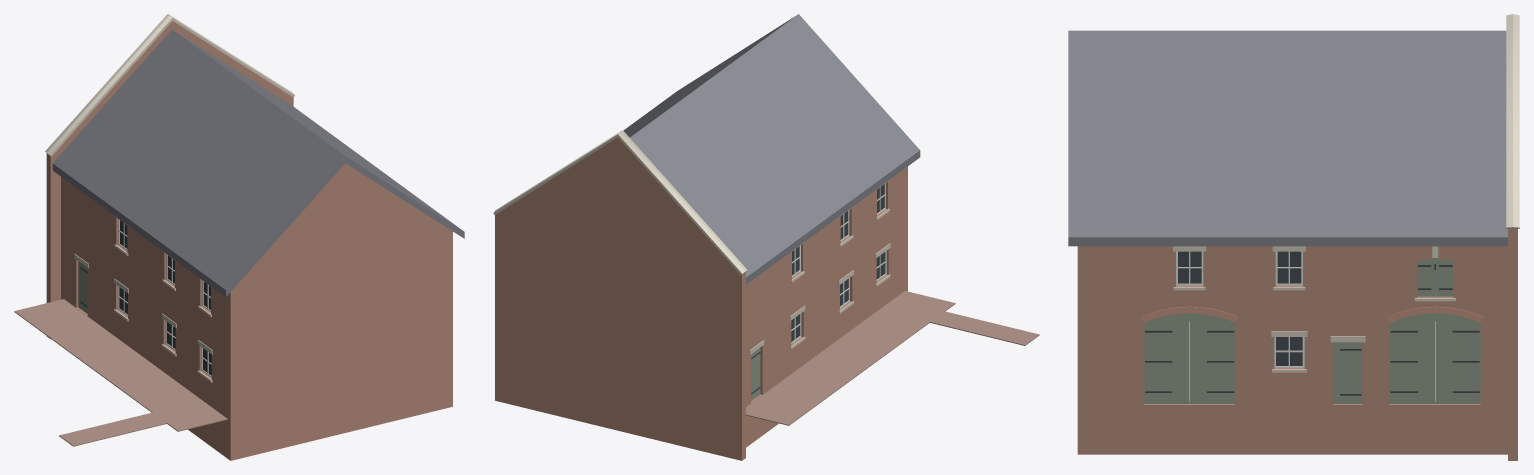
The model's file is house_2027_prairie_coach_house__as_standing_1904.glb.
3 renders of one model, left to right at view 1: azimuth 30°, elevation 25°; view 2: azimuth 150°, elevation 25°; view 3: azimuth 270°, elevation 25°, orthographic. The views are drawn at different scales.
Visible parts, largest first — view 1: house_2027_prairie_coach_house__as_standing_1904; view 2: house_2027_prairie_coach_house__as_standing_1904; view 3: house_2027_prairie_coach_house__as_standing_1904.
Boxes of the visible parts, x1,y1,x2,y2 form: house_2027_prairie_coach_house__as_standing_1904: (14,14,464,460); house_2027_prairie_coach_house__as_standing_1904: (493,14,1039,460); house_2027_prairie_coach_house__as_standing_1904: (1068,14,1519,460).
Bounding box in the file's own units: 18.55 × 13.53 × 14.88.
